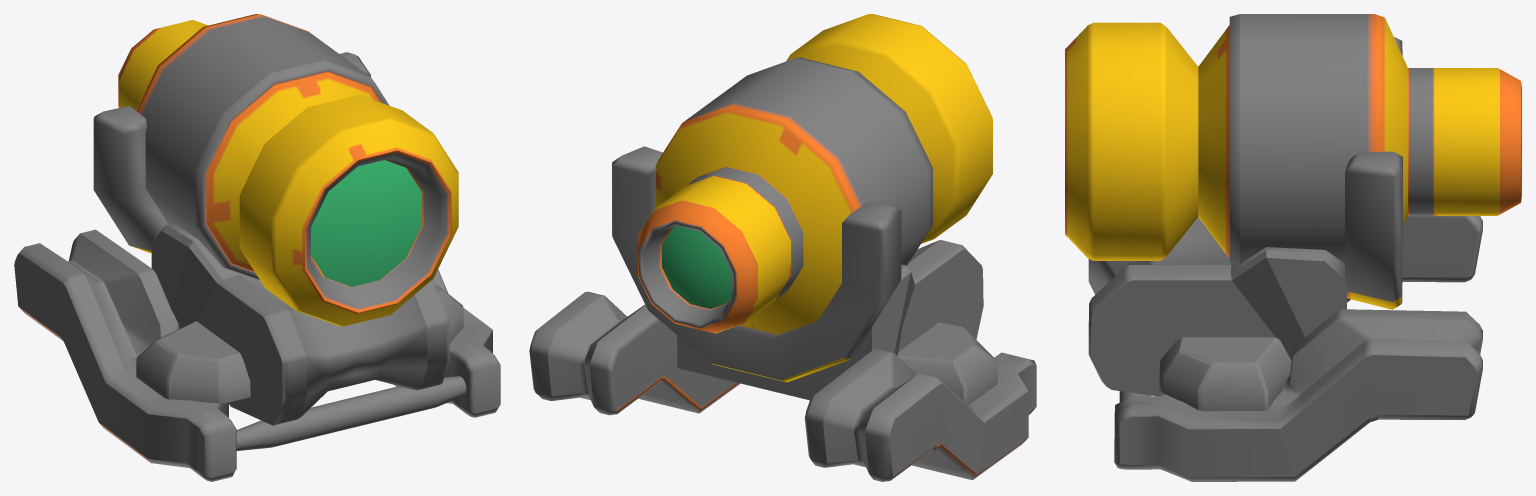
File: laser.fbx
3 views of the same model, side by side, from view 1: azimuth 30°, elevation 25°; view 2: azimuth 150°, elevation 25°; view 3: azimuth 270°, elevation 25° (orthographic). The views are drawn at different scales.
Visible parts, largest first — view 1: laser_cannon, laser_base; view 2: laser_cannon, laser_base; view 3: laser_cannon, laser_base.
Part boxes in pixels (bbox=[...]): laser_cannon: bbox=[93, 14, 458, 326]; laser_base: bbox=[14, 223, 500, 481]; laser_cannon: bbox=[612, 14, 992, 382]; laser_base: bbox=[529, 240, 1036, 481]; laser_cannon: bbox=[1065, 14, 1521, 309]; laser_base: bbox=[1088, 216, 1482, 481].
Bounding box in the file's own units: 105 × 98.87 × 112.
